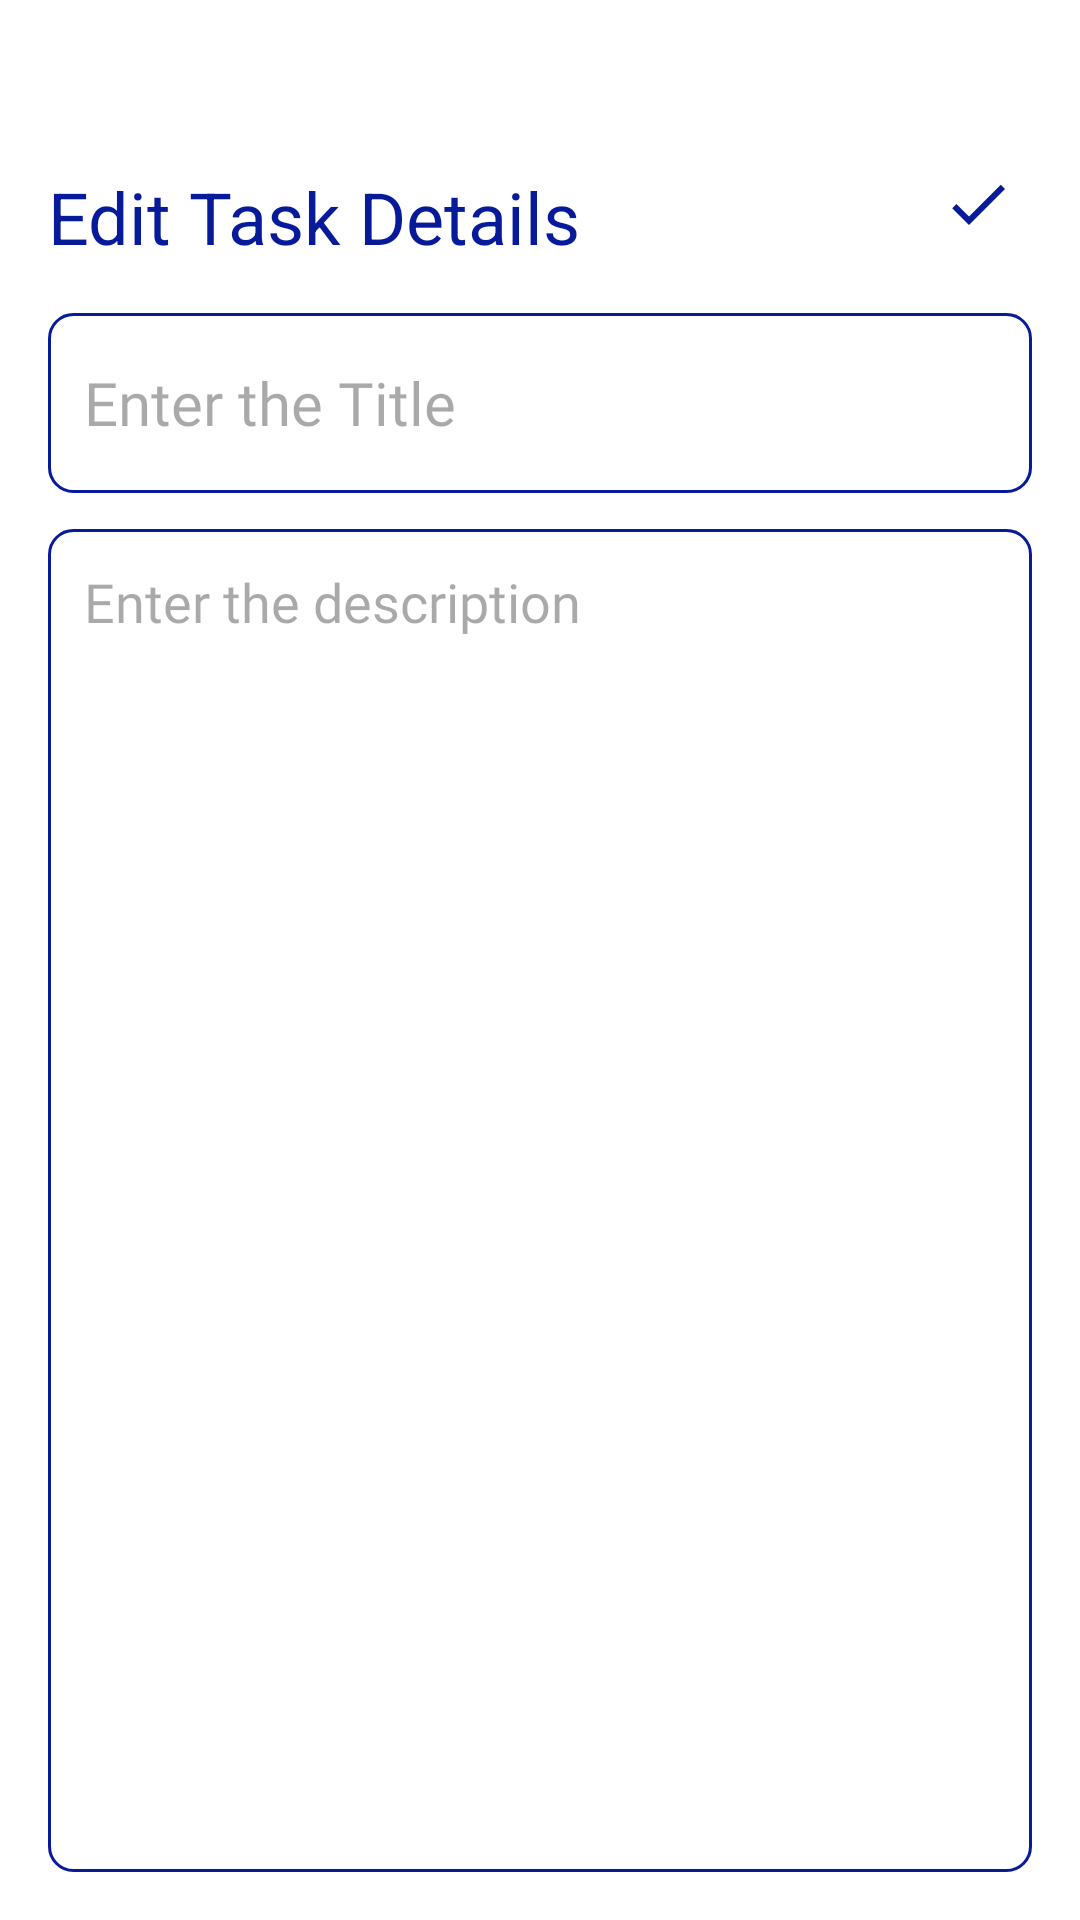

Where icons sit on this 1080w x 1920h app screen, as [left=x1, top=y1, right=x2, bottom=y2]:
done: [left=952, top=185, right=1005, bottom=225]
